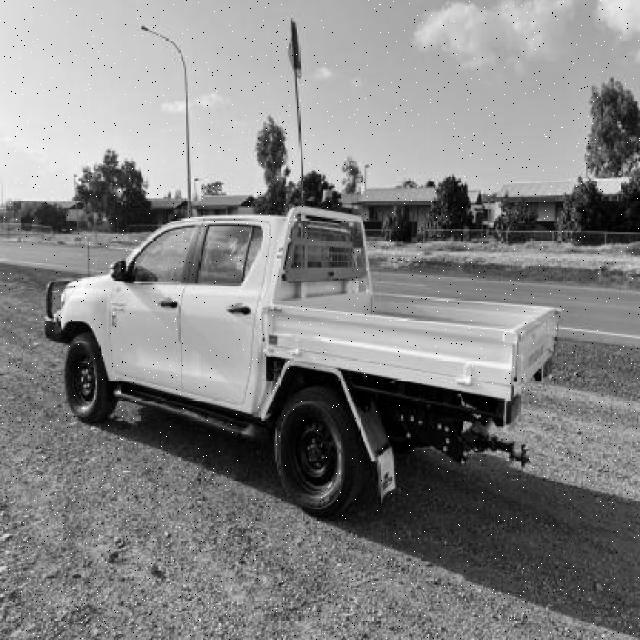Pickup- Utility: (45, 188, 563, 520)
